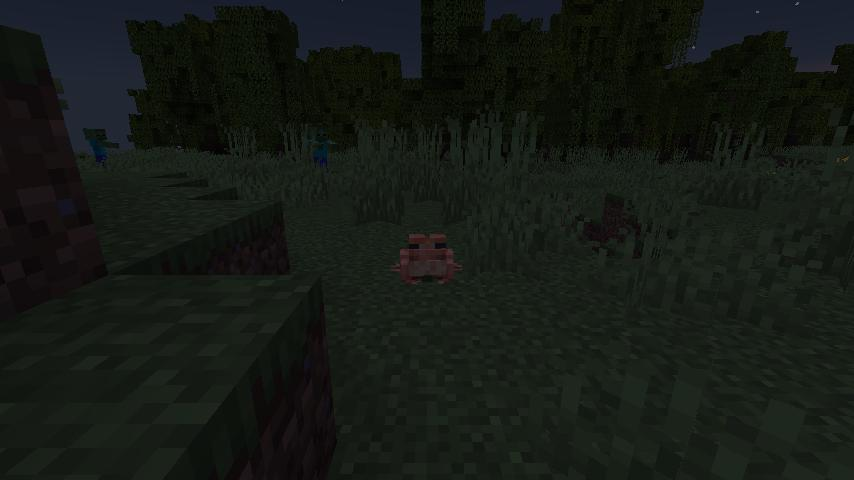frog: (387, 228, 468, 291)
zombie: (303, 121, 338, 177), (81, 124, 121, 171)
